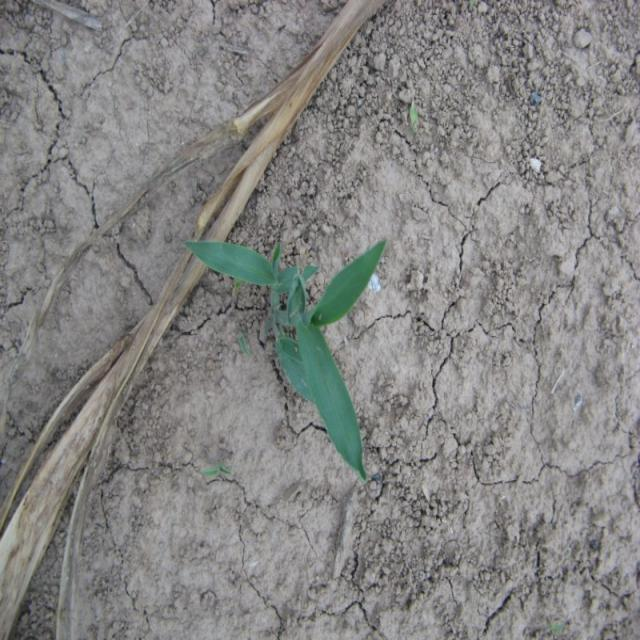bg: (186, 223, 378, 472)
